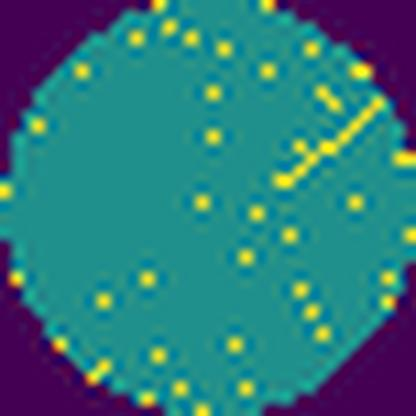Scratch: (272, 100, 383, 197)
